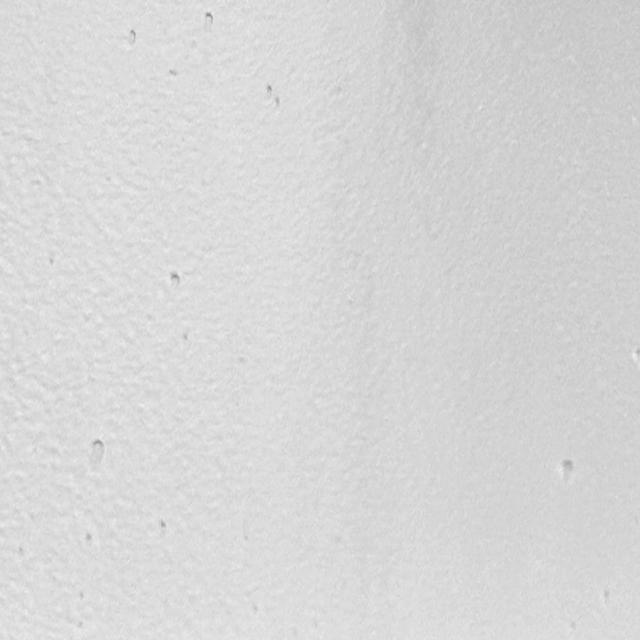pin holes: (87, 437, 109, 468), (555, 456, 577, 485), (164, 270, 186, 294), (120, 26, 140, 50), (198, 8, 215, 30), (598, 586, 614, 608), (152, 518, 168, 535), (80, 531, 95, 549), (629, 346, 640, 370), (163, 66, 178, 79), (265, 82, 273, 101), (274, 96, 281, 114)
